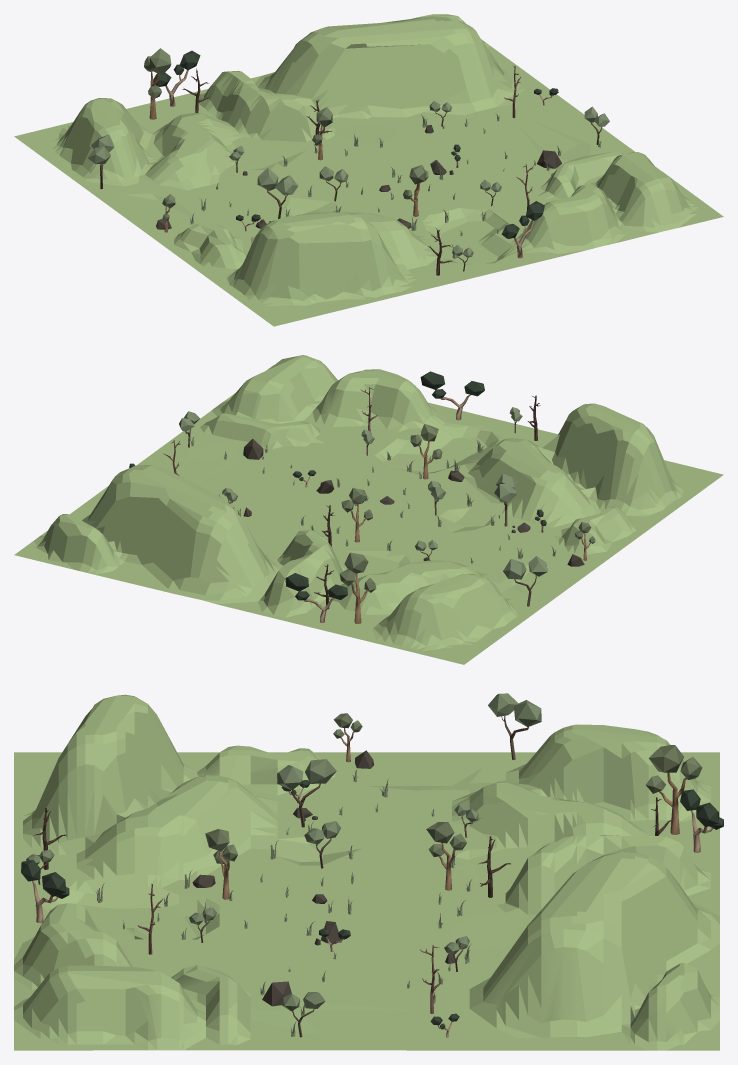
File: floor-DQ_5ENRy.glb
3 views of the same model, one above another, from view 1: azimuth 30°, elevation 25°; view 2: azimuth 150°, elevation 25°; view 3: azimuth 270°, elevation 25° (orthographic). The views are drawn at different scales.
Parts seen in each view (by area): view 1: Environment_Ground_geo_lambert20_0, Tree_geo_014_lambert29_0, Tree_geo_018_lambert30_0, Tree_geo_011_Tree_03_Texture_0, Tree_geo_015_Tree_03_Texture_0, Tree_geo_013_lambert30_0, Tree_geo_01_lambert29_0; view 2: Environment_Ground_geo_lambert20_0, Tree_geo_014_lambert29_0, Tree_geo_011_Tree_03_Texture_0, Tree_geo_015_Tree_03_Texture_0, Tree_geo_013_lambert30_0, Tree_geo_01_lambert29_0, Tree_geo_012_lambert29_0, Tree_geo_018_lambert30_0; view 3: Environment_Ground_geo_lambert20_0, Tree_geo_014_lambert29_0, Tree_geo_018_lambert30_0, Tree_geo_013_lambert30_0, Tree_geo_011_Tree_03_Texture_0, Tree_geo_015_Tree_03_Texture_0, Tree_geo_012_lambert29_0, Tree_geo_01_lambert29_0, Tree_geo_03_lambert30_0, Tree_geo_017_lambert30_0.
Boxes of the visible parts, x1,y1,x2,y2 form: Environment_Ground_geo_lambert20_0: [14, 14, 723, 326]; Tree_geo_014_lambert29_0: [144, 48, 171, 119]; Tree_geo_018_lambert30_0: [257, 168, 297, 218]; Tree_geo_011_Tree_03_Texture_0: [501, 201, 544, 258]; Tree_geo_015_Tree_03_Texture_0: [153, 50, 200, 106]; Tree_geo_013_lambert30_0: [88, 134, 114, 189]; Tree_geo_01_lambert29_0: [403, 165, 428, 216]; Environment_Ground_geo_lambert20_0: [14, 355, 723, 664]; Tree_geo_014_lambert29_0: [339, 552, 376, 623]; Tree_geo_011_Tree_03_Texture_0: [420, 371, 484, 420]; Tree_geo_015_Tree_03_Texture_0: [285, 573, 347, 622]; Tree_geo_013_lambert30_0: [503, 556, 547, 606]; Tree_geo_01_lambert29_0: [410, 424, 442, 479]; Tree_geo_012_lambert29_0: [341, 487, 372, 542]; Tree_geo_018_lambert30_0: [494, 473, 518, 526]; Environment_Ground_geo_lambert20_0: [14, 694, 719, 1050]; Tree_geo_014_lambert29_0: [646, 745, 702, 834]; Tree_geo_018_lambert30_0: [277, 759, 336, 827]; Tree_geo_013_lambert30_0: [488, 693, 541, 759]; Tree_geo_011_Tree_03_Texture_0: [21, 860, 69, 923]; Tree_geo_015_Tree_03_Texture_0: [680, 789, 723, 852]; Tree_geo_012_lambert29_0: [426, 822, 466, 890]; Tree_geo_01_lambert29_0: [205, 829, 237, 899]; Tree_geo_03_lambert30_0: [282, 992, 325, 1037]; Tree_geo_017_lambert30_0: [304, 821, 340, 868].
Bounding box in the file's own units: 49.67 × 8.38 × 49.43.
9 materials, 4 textured.
